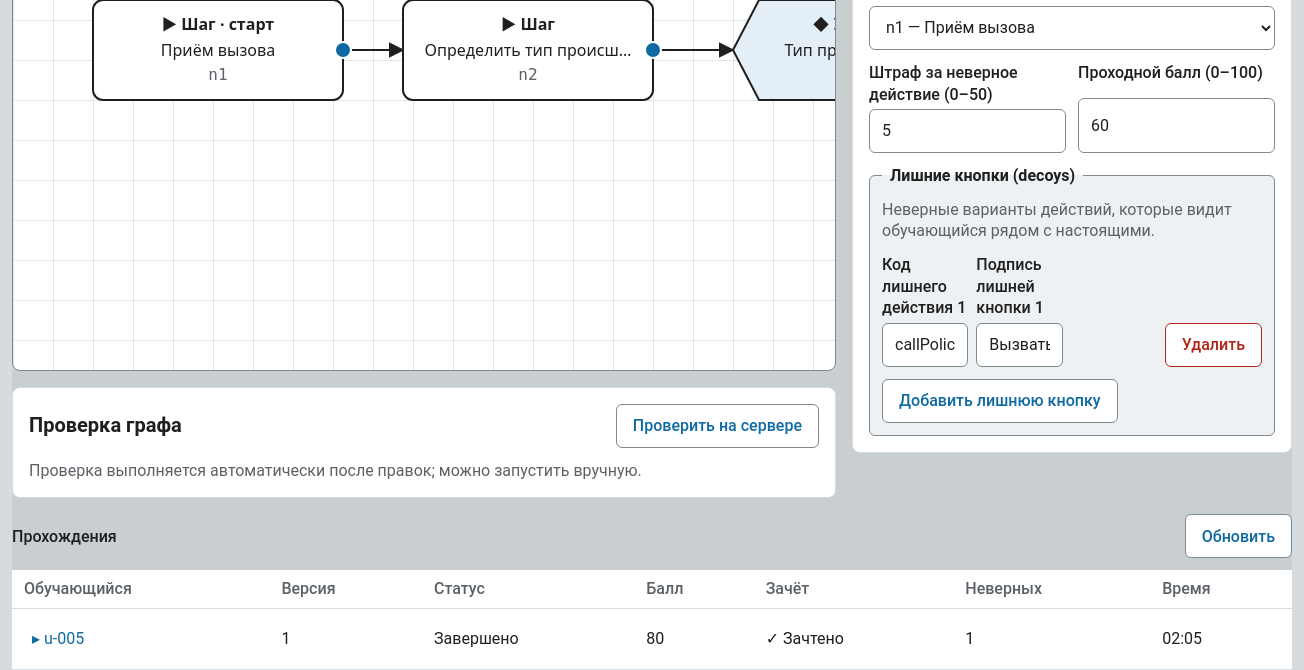
ScenarioGraphEditor: прохождения › таблица показывает балл, зачёт, неверные и время; строка раскрывается маршрутом и ветками
The width and height of the screenshot is (1304, 670).
(page scrolled)
Expected: the text "80" is shown, [634,609,754,669]
Expected: the text "✓ Зачтено" is shown, [754,609,953,669]
Click the button "▸ u-005": (58, 639) [24,617,92,661]
(page scrolled)
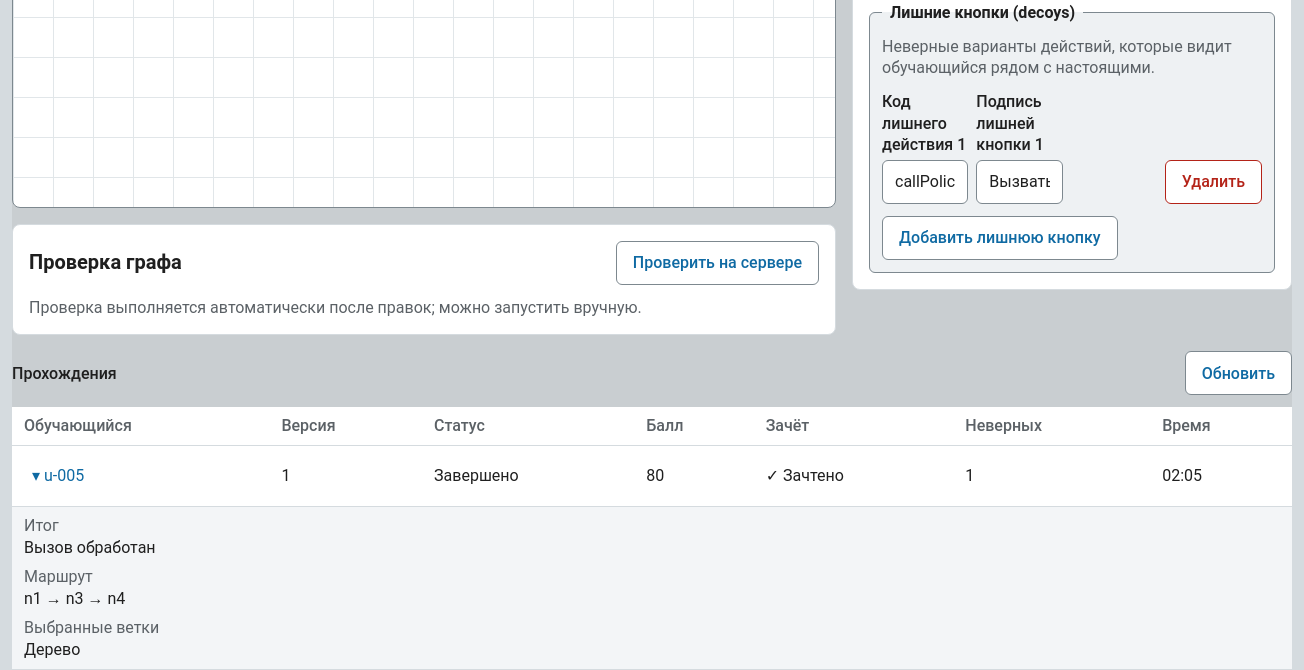
Expected: the text "n1 → n3 → n4" is shown, [24,589,125,608]
Expected: the text "Дерево" is shown, [24,640,80,659]
